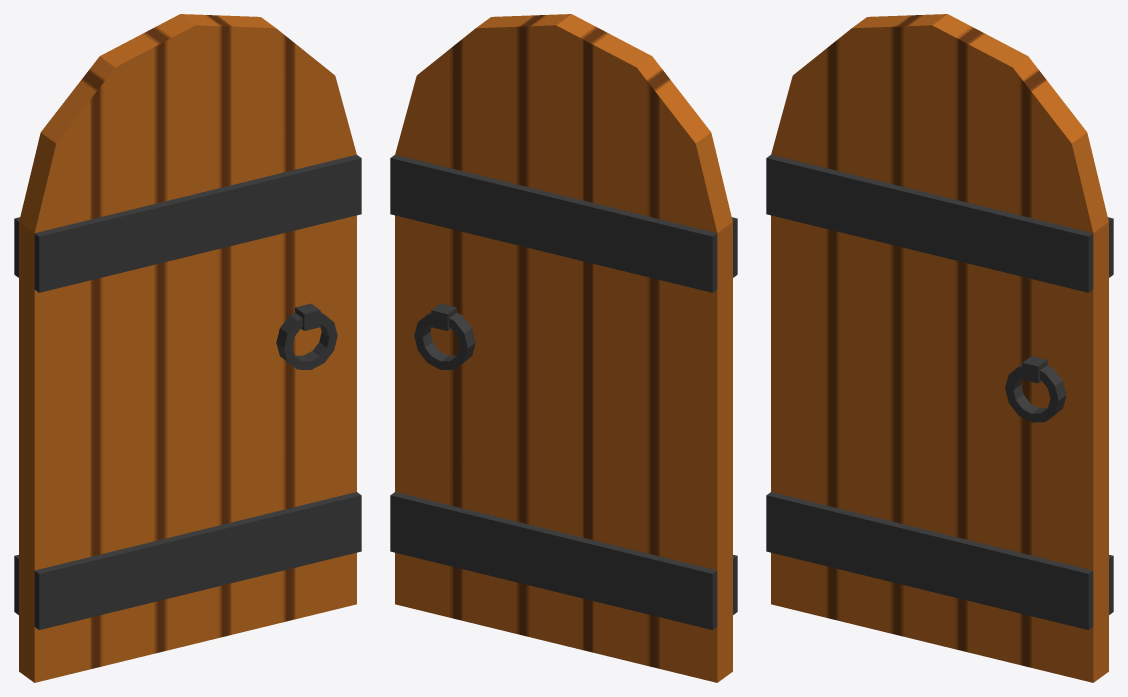
File: House_01_Door.fbx
3 views of the same model, side by side, from view 1: azimuth 30°, elevation 25°; view 2: azimuth 150°, elevation 25°; view 3: azimuth 330°, elevation 25° (orthographic).
Parts seen in each view (by area): view 1: House_01_Door; view 2: House_01_Door; view 3: House_01_Door.
Part boxes in pixels (box(x1,y1,x2,y2)): House_01_Door: box(14, 14, 361, 682); House_01_Door: box(390, 14, 737, 682); House_01_Door: box(766, 14, 1113, 682).
Size of the model in its own units: 120 by 220 by 22.
1 material, 1 textured.
